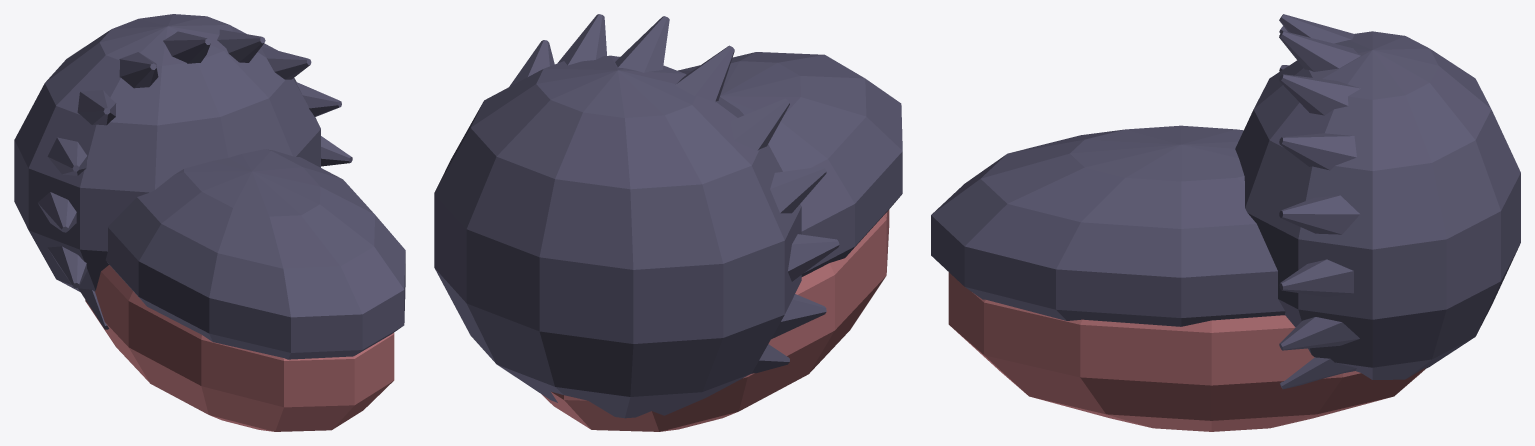
Rendered from chimera_d_body.obj.
3 views of the same model, side by side, from view 1: azimuth 30°, elevation 25°; view 2: azimuth 150°, elevation 25°; view 3: azimuth 270°, elevation 25° (orthographic). The views are drawn at different scales.
Visible parts, largest first — view 1: chimera_d_body; view 2: chimera_d_body; view 3: chimera_d_body.
Boxes of the visible parts, <box> form: chimera_d_body: <box>14,14,405,431</box>; chimera_d_body: <box>434,14,902,431</box>; chimera_d_body: <box>931,14,1520,431</box>.
Bounding box in the file's own units: 0.875 × 0.9772 × 1.36.
